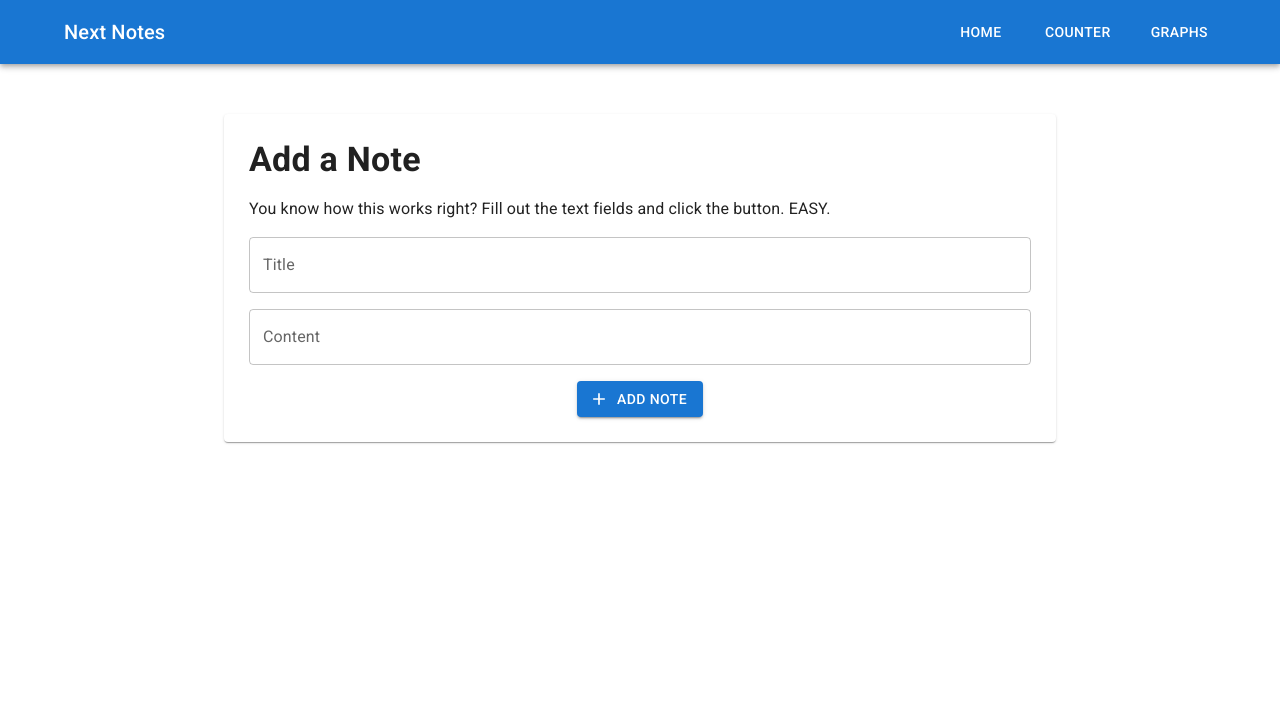
Home Page Tests › Form Validation Should fail when the content is too short.
// Enter invalid content
Type "Hello" into the element with test id "content-input".
click(640, 337); type("Hello")  # box top-left (249, 309), bottom-right (1031, 365)
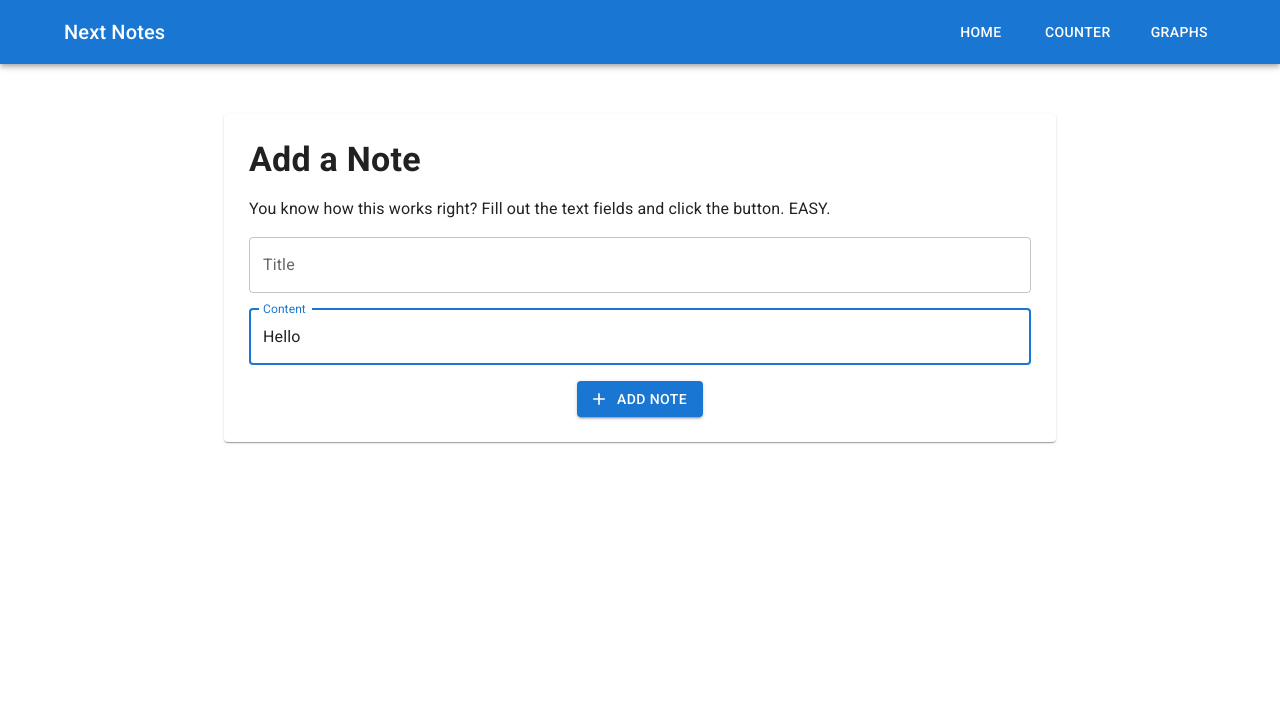
// Click the button
Click the button with test id "add-note-submit".
click(640, 400)  # box top-left (577, 381), bottom-right (703, 418)
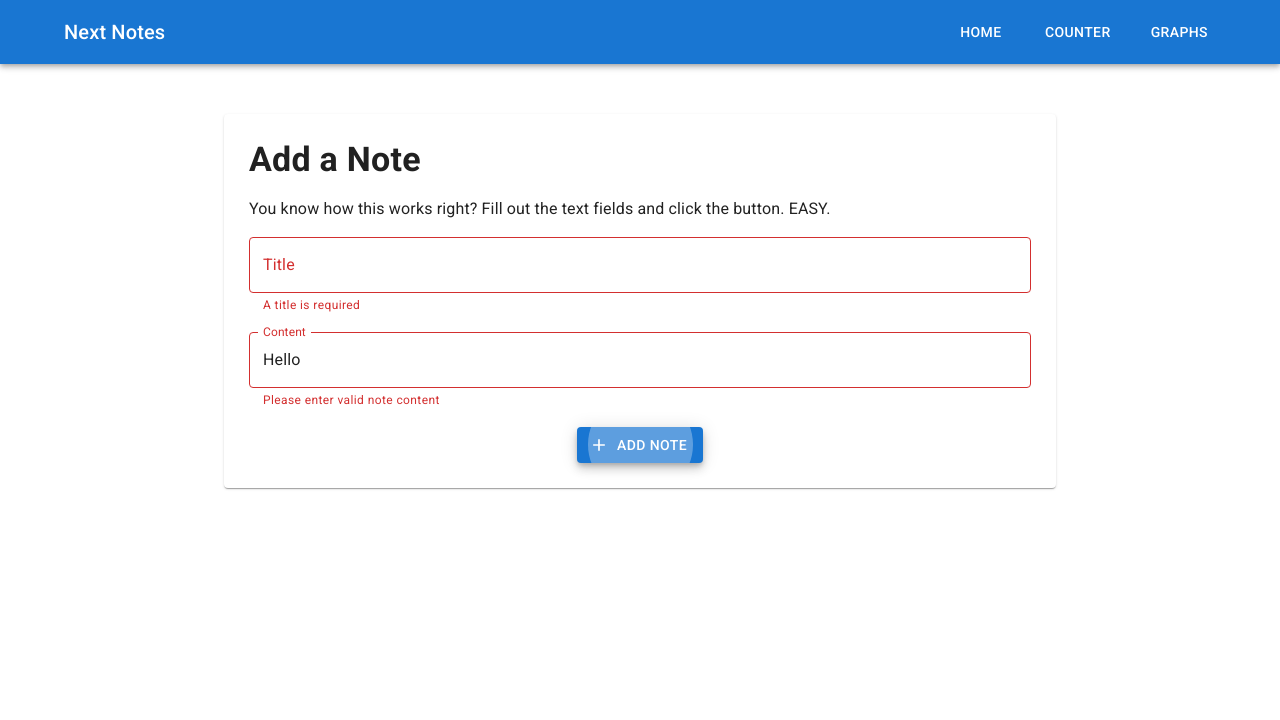
Expected: the text "Please enter valid note content" is shown, top-left (263, 393), bottom-right (440, 407)
